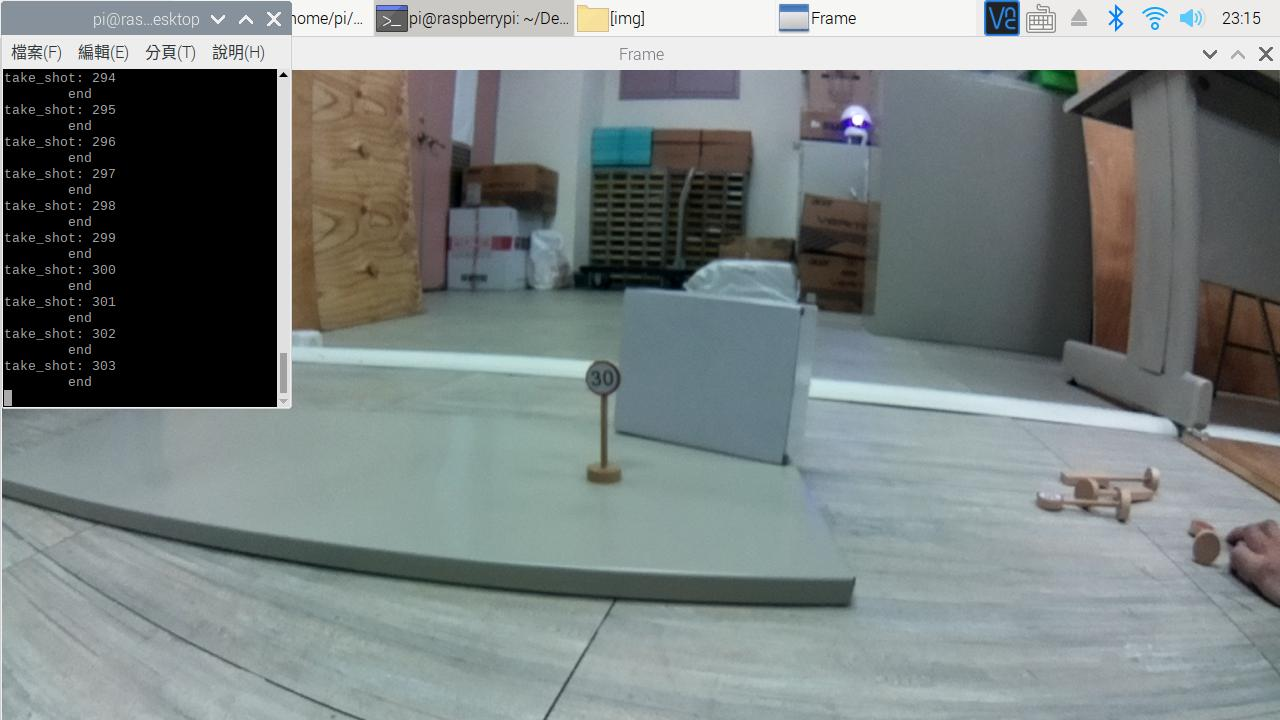Speed30: (579, 359, 633, 413)
